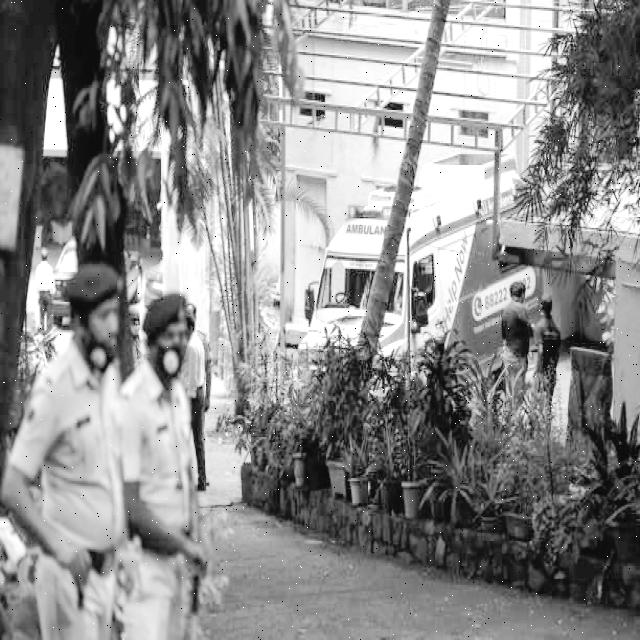Ambulance: (427, 192, 484, 336), (338, 198, 392, 222), (343, 222, 388, 240)
